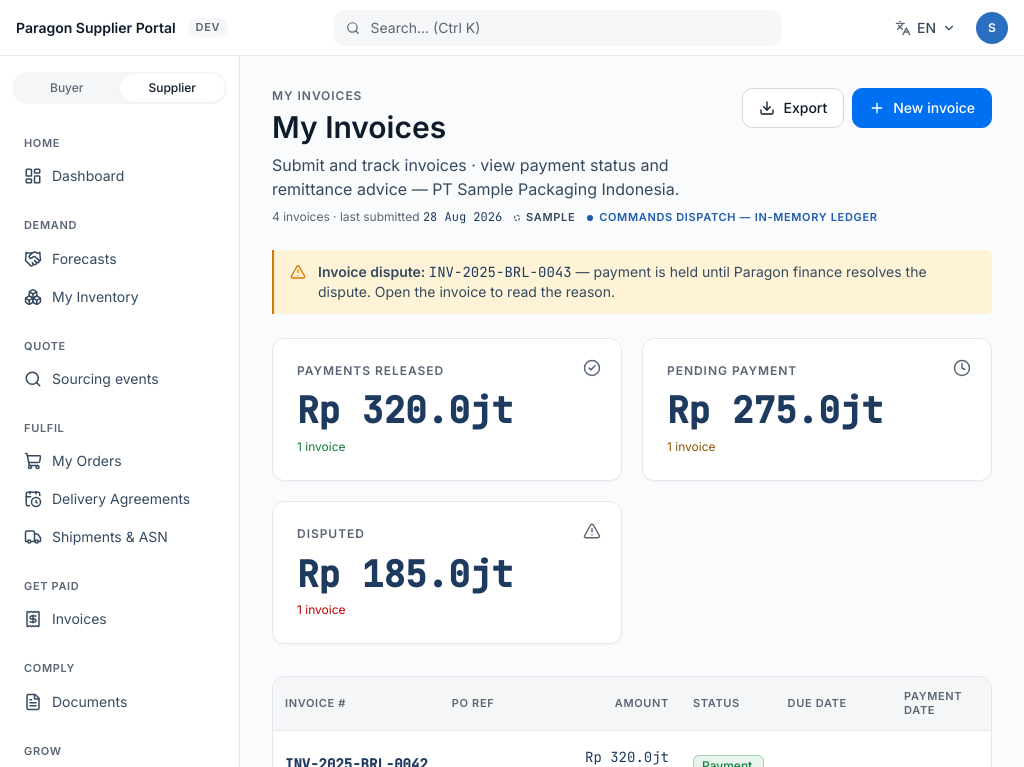
Test: SupplierInvoices — the new invoice opens on the order's lines (E2E-2) › ADM-1 · an order with NOTHING received opens on the CONFIRMED quantity, says the match will wait, and may be invoiced
Expected: the heading "My Invoices" is shown, [272,109,446,145]
Click the button "New invoice". click: (922, 108)
box: [852,88,992,128]
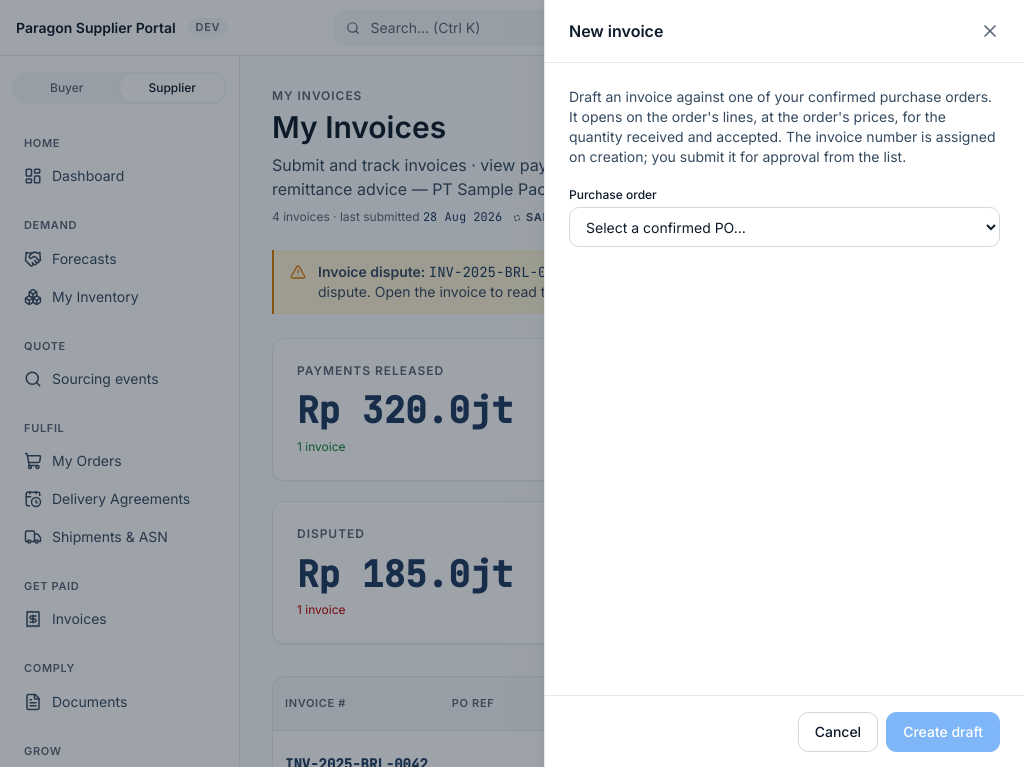
Select "PO-2025-00107" in the dropdown labelled "Purchase order". click: (784, 227)
box: [569,207,1000,247]
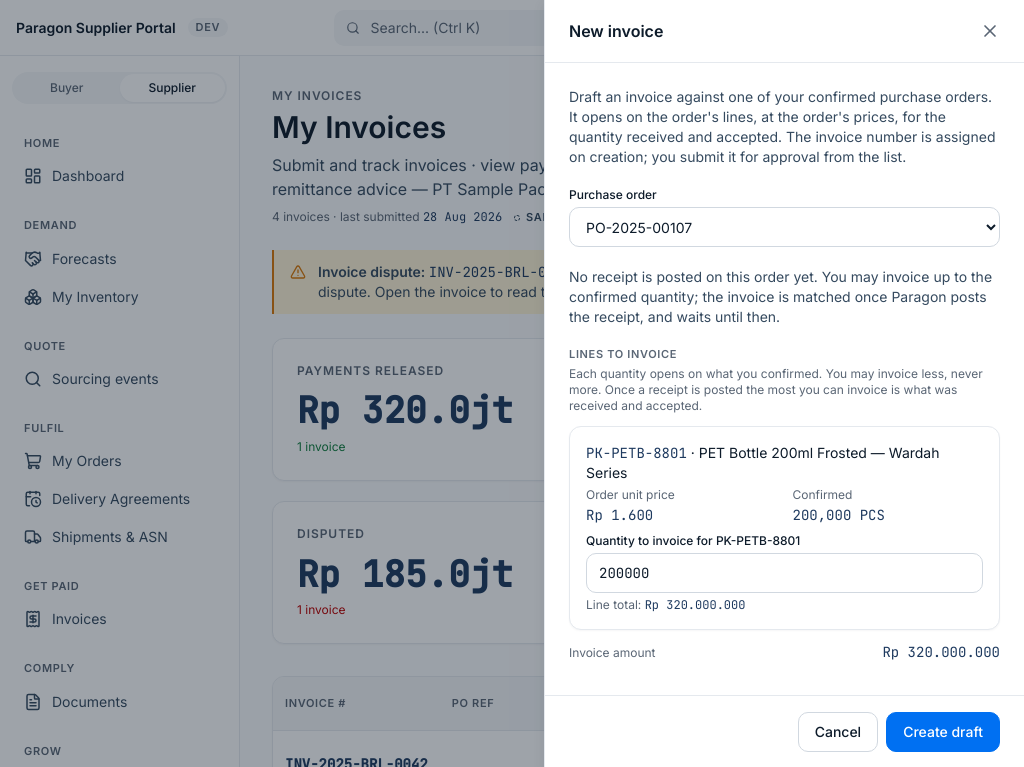
Now the text with test id "invoice-before-receipt" shows "No receipt is posted on this order yet. You may invoice up to the confirmed quantity; the invoice is matched once Paragon posts the receipt, and waits until the", box [569,268,992,325]
Now the list item with test id "invoice-line-PK-PETB-8801" shows "Confirmed", box [792,487,852,502]
Now the text with test id "invoice-line-accepted-PK-PETB-8801" shows "200,000", box [792,506,851,524]
Replace the text in the field labelled "Quantity to invoice for PK-PETB-8801" with "200001". click: (784, 573)
box: [586,553,983,593]
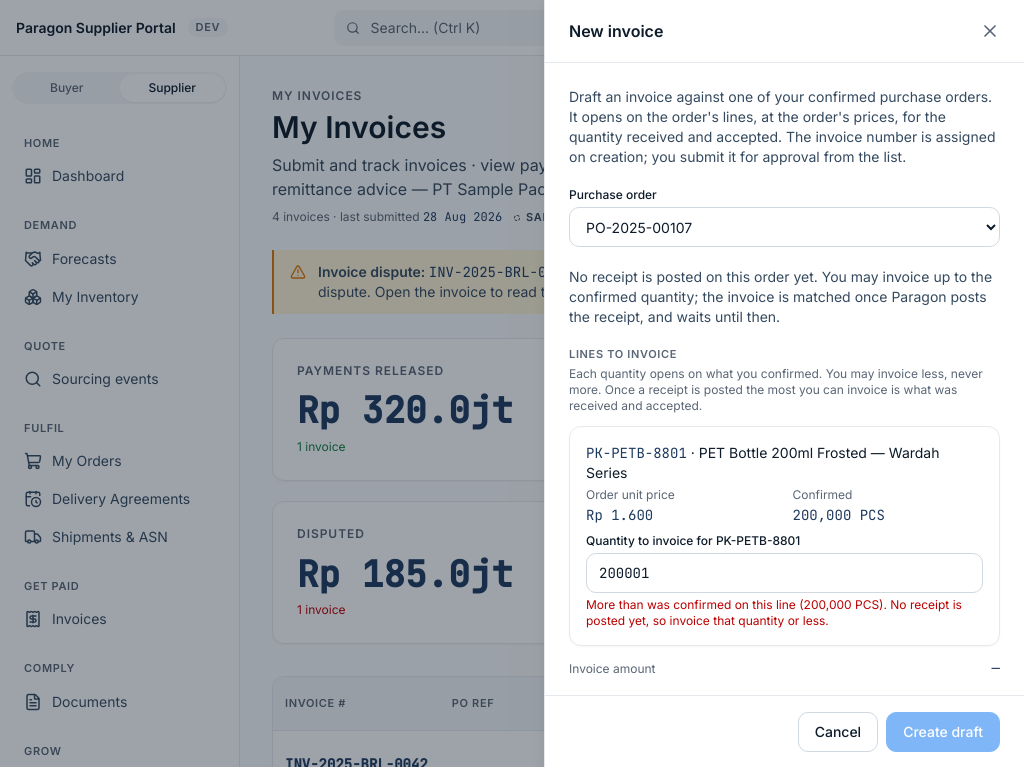
Now the message with test id "invoice-qty-refusal-PK-PETB-8801" shows "More than was confirmed on this line (200,000", box [586,597,962,628]
Now the button "Create draft" is disabled, box [886,712,1000,752]
